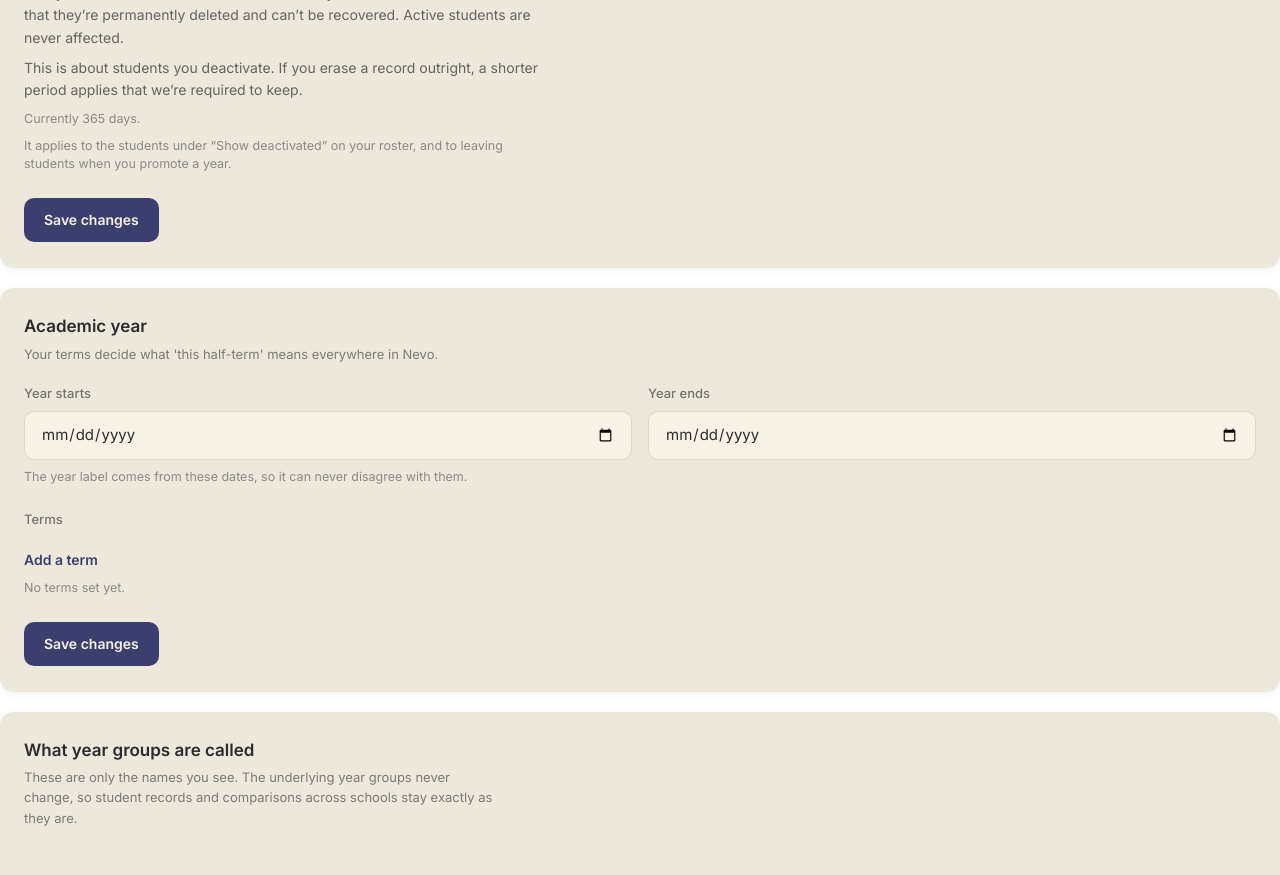
it: a refusal when the level wasn't known › from the calendar's Save too
(page scrolled)
Type "2026-09-01" into the date field labelled "Year starts" at {"x": 328, "y": 435}, box [24,411,632,460]
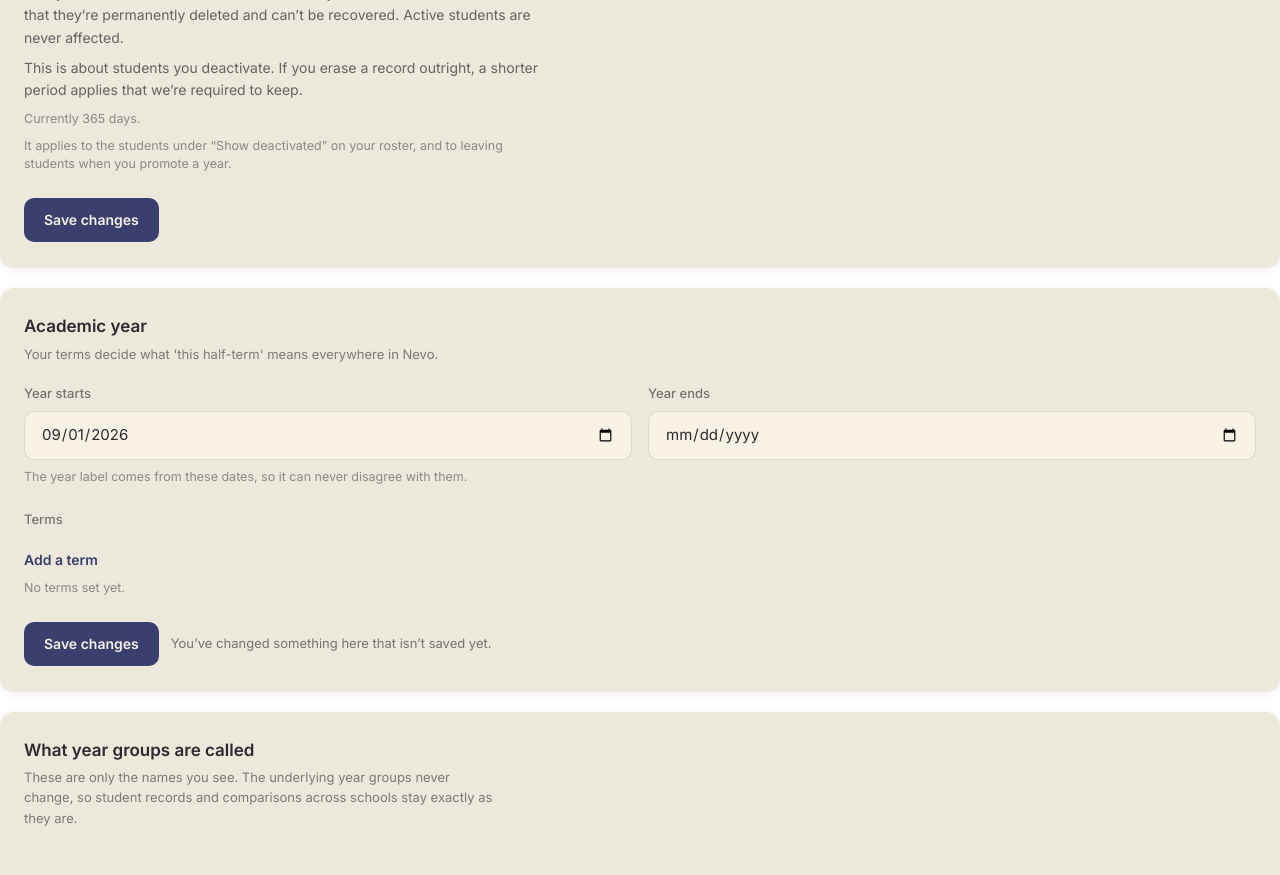
// In page order: General, Data retention, Academic year.
Click the button "Save changes" below "No terms set yet." at {"x": 91, "y": 644}, box [24,622,159,666]
(page scrolled)
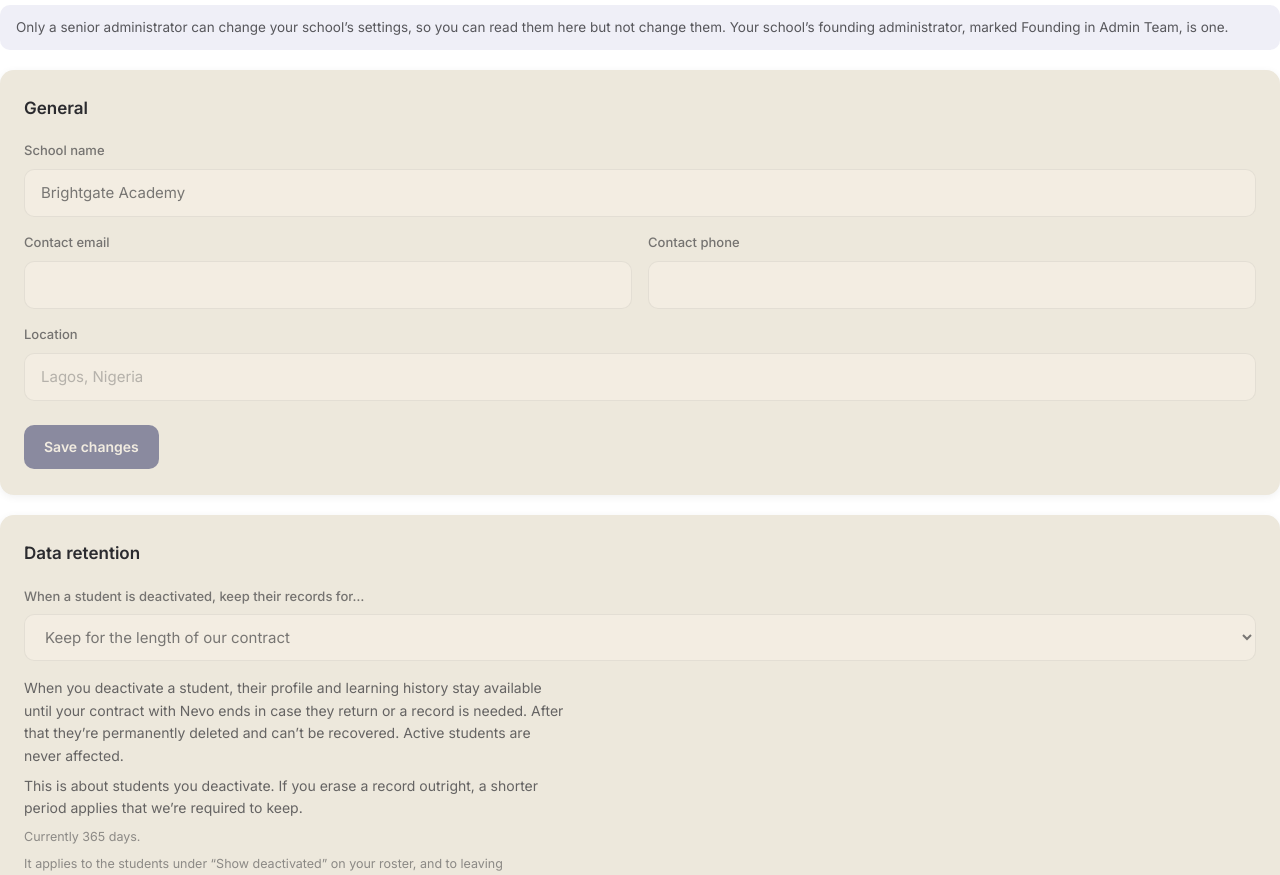
Check: the text "Only a senior administrator can change your school.s settings" is shown, box [16,19,1228,35]
